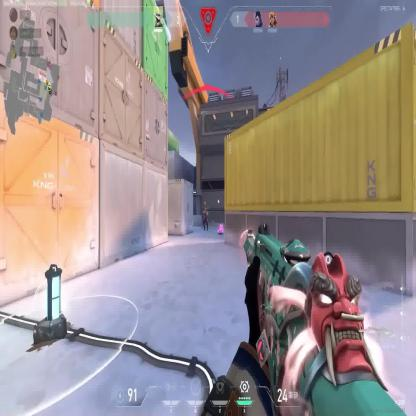enemy: (202, 206, 209, 230)
enemy_head: (204, 208, 207, 214)
